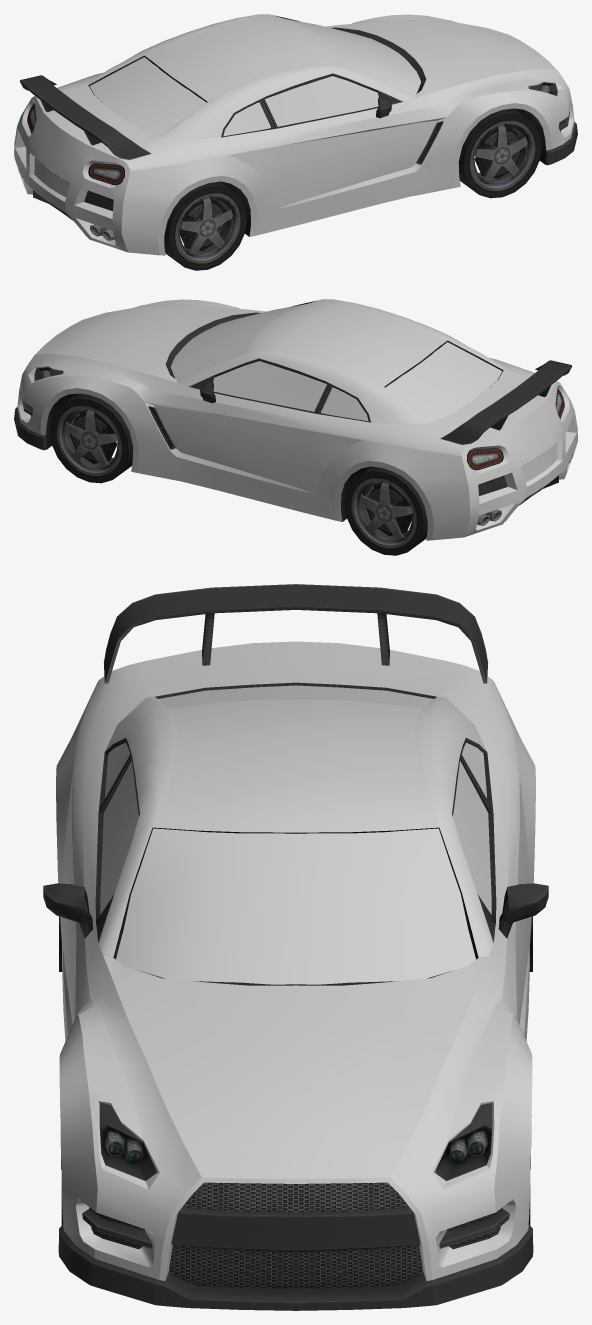
The model's file is car_7.FBX.
3 views of the same model, one above another, from view 1: azimuth 30°, elevation 25°; view 2: azimuth 150°, elevation 25°; view 3: azimuth 270°, elevation 25° (orthographic). The views are drawn at different scales.
Visible parts, largest first — view 1: car_7; view 2: car_7; view 3: car_7.
Part boxes in pixels (x1,y1,x2,y2): car_7: (14, 14, 577, 270); car_7: (14, 299, 577, 555); car_7: (43, 584, 548, 1310).
Size of the model in its own units: 66.59 by 19.79 by 28.95.
